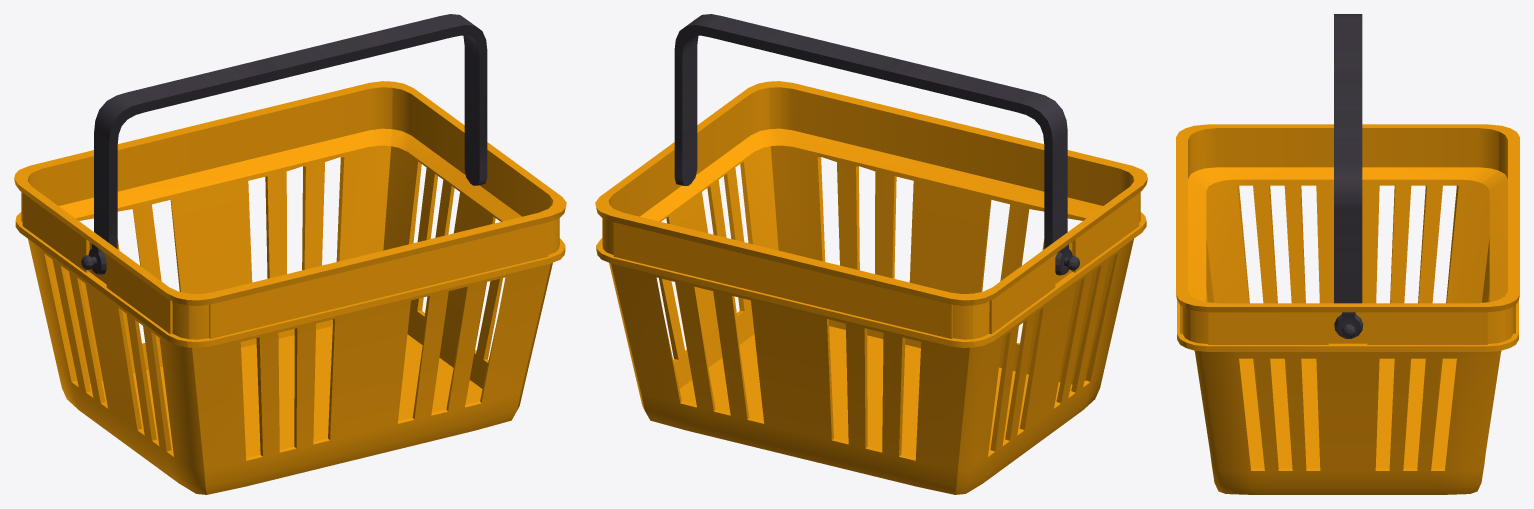
File: shopping basket.fbx
3 views of the same model, side by side, from view 1: azimuth 30°, elevation 25°; view 2: azimuth 150°, elevation 25°; view 3: azimuth 270°, elevation 25° (orthographic). The views are drawn at different scales.
Visible parts, largest first — view 1: basket_F, basket_B, basket_L, basket_R, Handle, basket_U; view 2: basket_B, basket_F, basket_L, basket_R, Handle, basket_U; view 3: basket_R, basket_L, basket_U, Handle, basket_F, basket_B.
Part boxes in pixels (x1,y1,x2,y2): basket_F: (187,205,565,494); basket_B: (15,81,489,383); basket_L: (14,174,206,494); basket_R: (383,81,566,409); Handle: (81,14,487,274); basket_U: (89,326,482,458); basket_B: (596,181,974,494); basket_F: (768,81,1146,384); basket_L: (955,174,1147,494); basket_R: (595,81,778,409); Handle: (674,14,1079,275); basket_U: (679,326,1072,458); basket_R: (1185,299,1510,494); basket_L: (1186,124,1509,303); basket_U: (1239,358,1456,468); Handle: (1334,14,1363,338); basket_F: (1176,128,1365,478); basket_B: (1481,128,1519,478).
Bounding box in the file's own units: 426 × 343 × 322.
